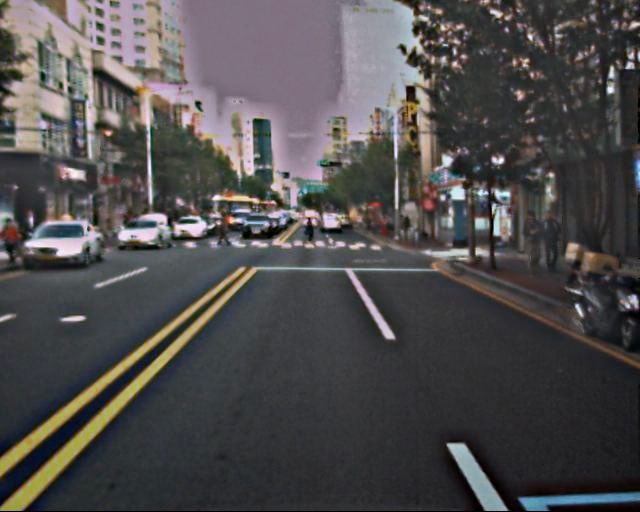person: (518, 209, 545, 275), (535, 210, 562, 276), (215, 214, 230, 250), (302, 216, 315, 248)
